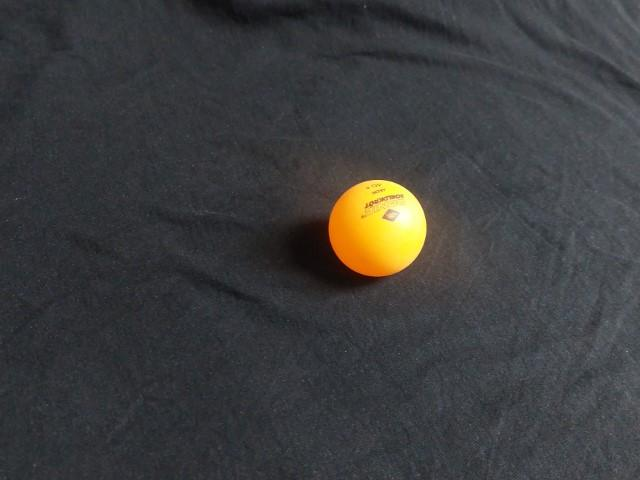oball: (321, 173, 437, 288)
